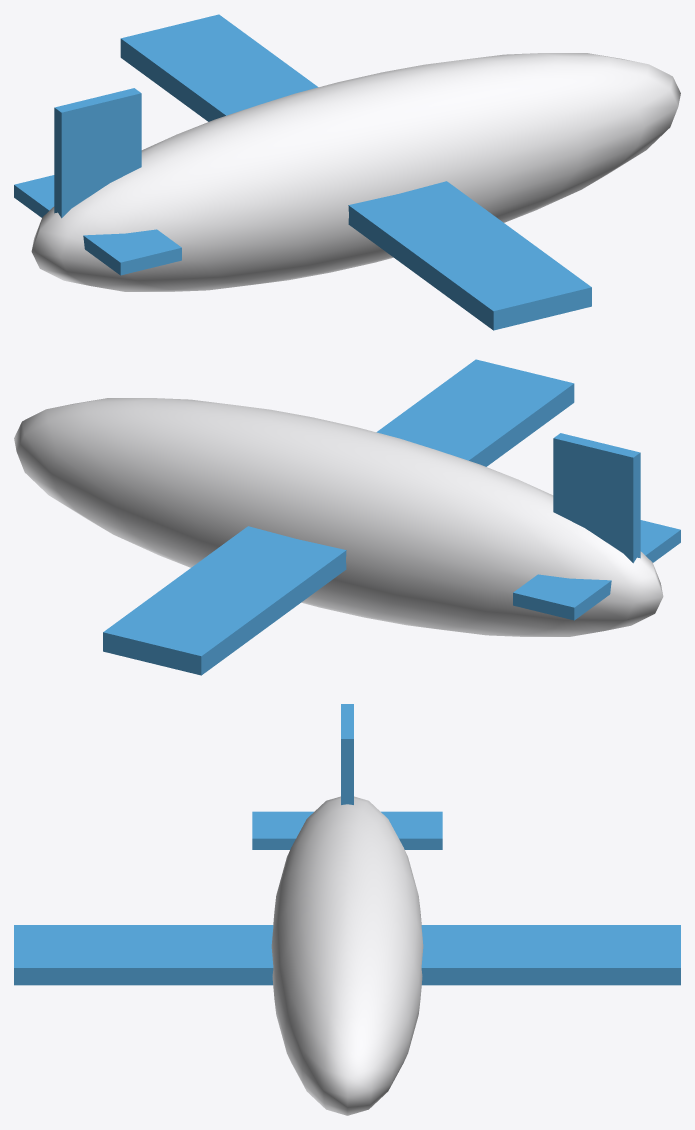
The model's file is ucak.glb.
The picture shows the model from 3 angles, top to bottom: view 1: azimuth 30°, elevation 25°; view 2: azimuth 150°, elevation 25°; view 3: azimuth 270°, elevation 25°; orthographic projection. The views are drawn at different scales.
Visible parts, largest first — view 1: Ucak; view 2: Ucak; view 3: Ucak.
Part boxes in pixels (bbox=[...]): Ucak: bbox=[14, 14, 680, 330]; Ucak: bbox=[14, 359, 680, 675]; Ucak: bbox=[14, 704, 680, 1115].
Bounding box in the file's own units: 0.95 × 0.3077 × 0.9446.
